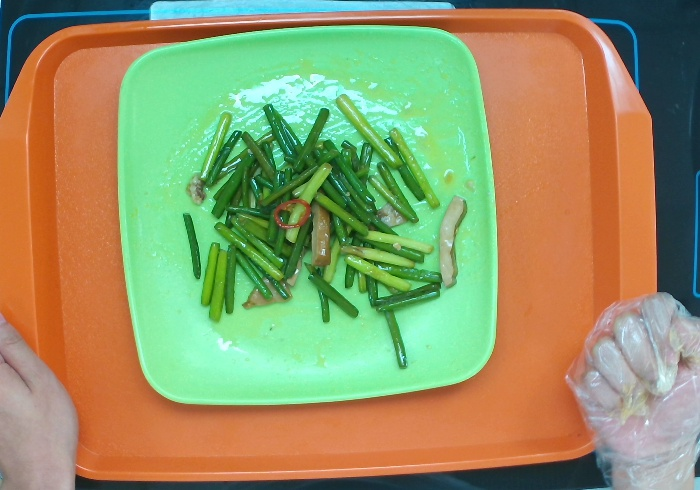ZNLD-Lv_Fang_Pan: (111, 16, 503, 411)
